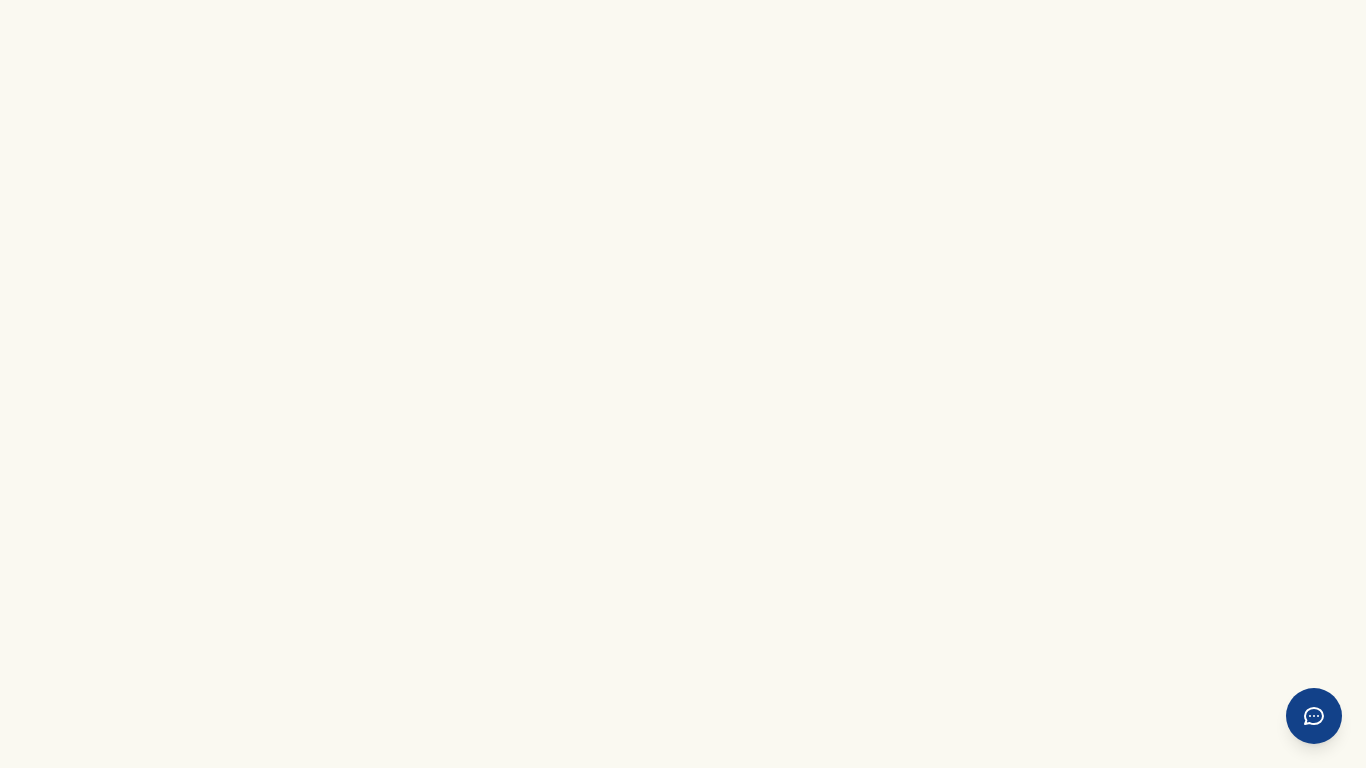
ConciergeChat › aborts and shows the retry error after 4 minutes without frames
Click the button named "open concierge".
click(1314, 716)  # box [1286, 688, 1342, 744]
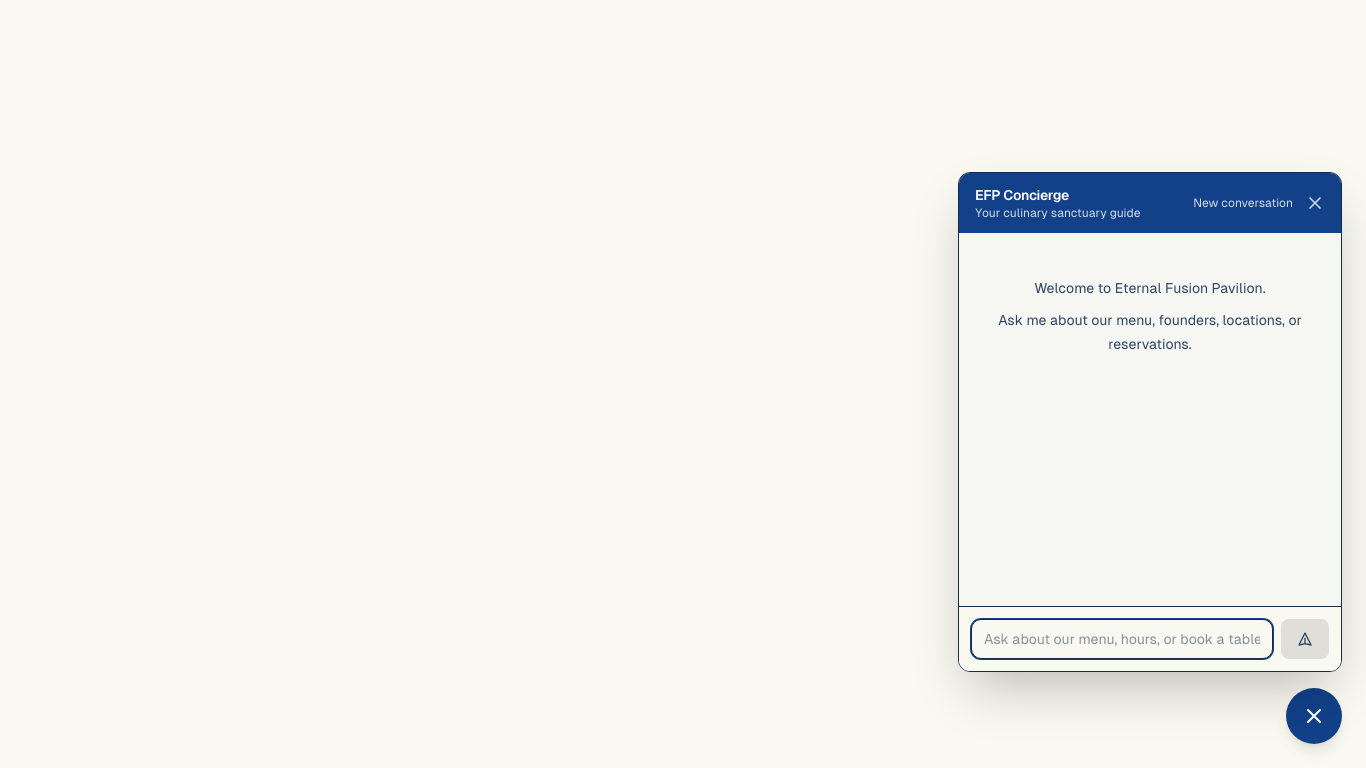
Type "hello" into the field named "type your message".
click(1122, 639); type("hello")  # box [971, 619, 1273, 659]
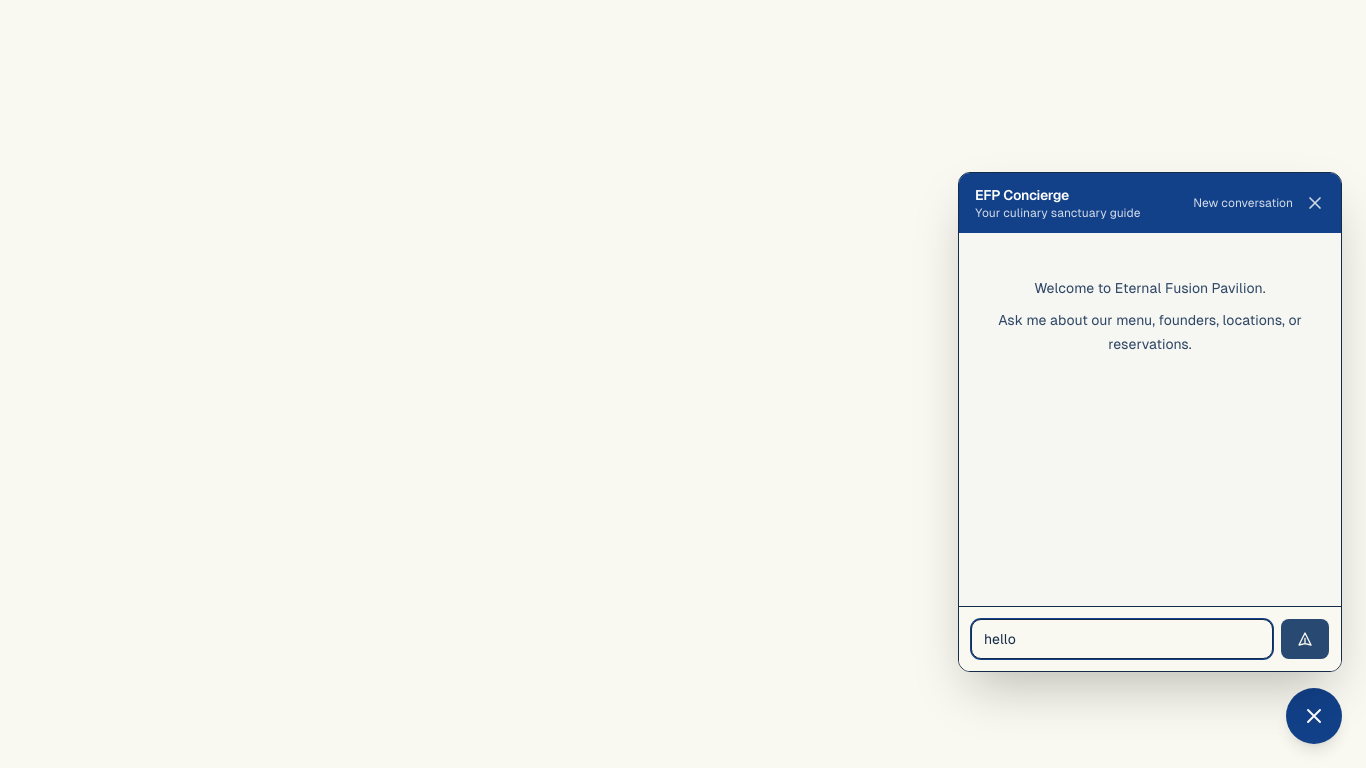
Press Enter in the field named "type your message", box [971, 619, 1273, 659]
Wait 240000 ms
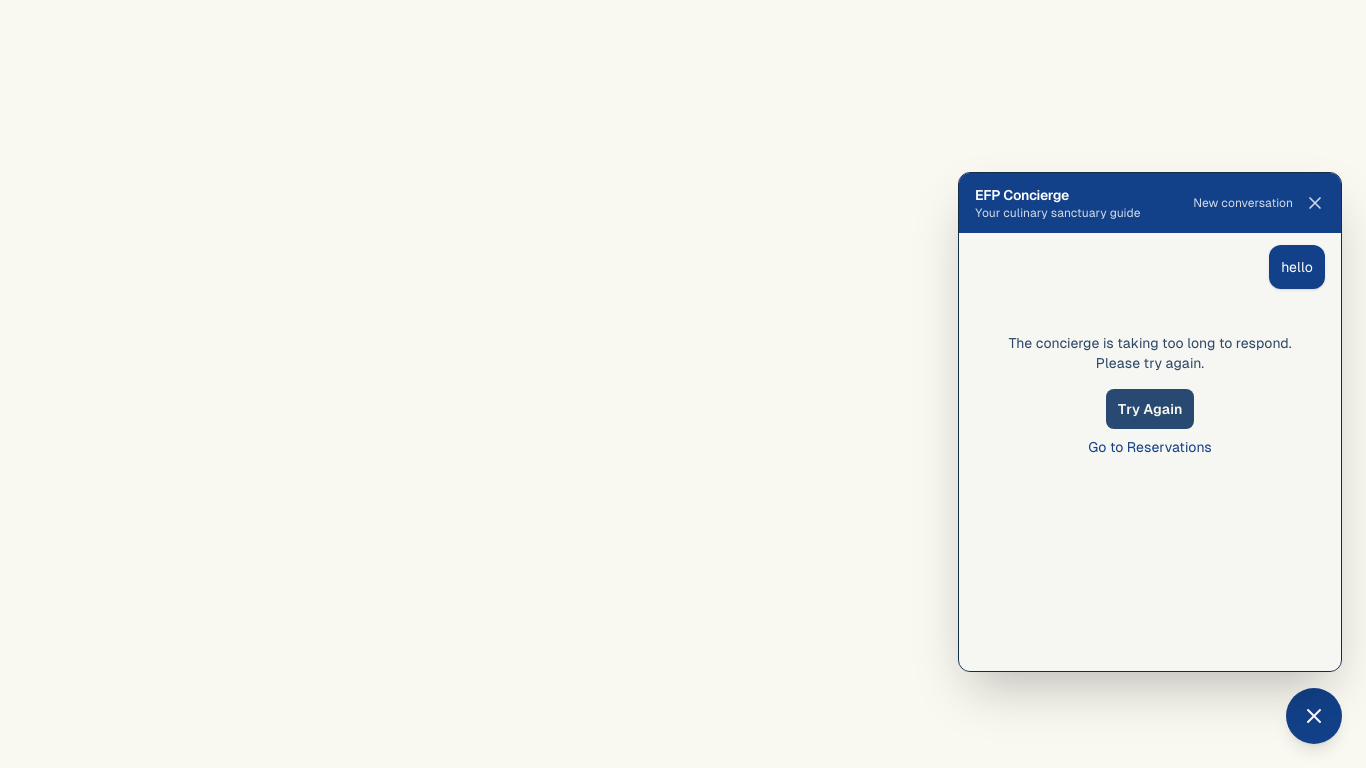
Now the text "taking too long to respond" is shown, box [1008, 335, 1292, 371]
Now the button "Try Again" is shown, box [1106, 389, 1194, 429]
